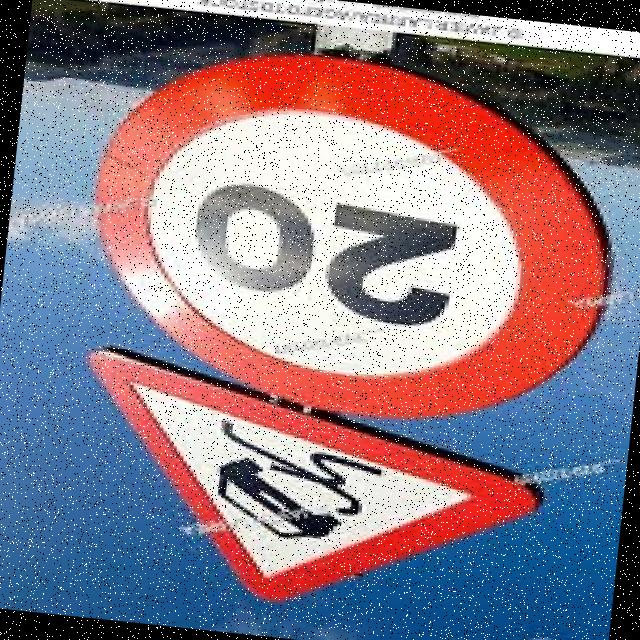speed_limit_20: (73, 35, 640, 446)
